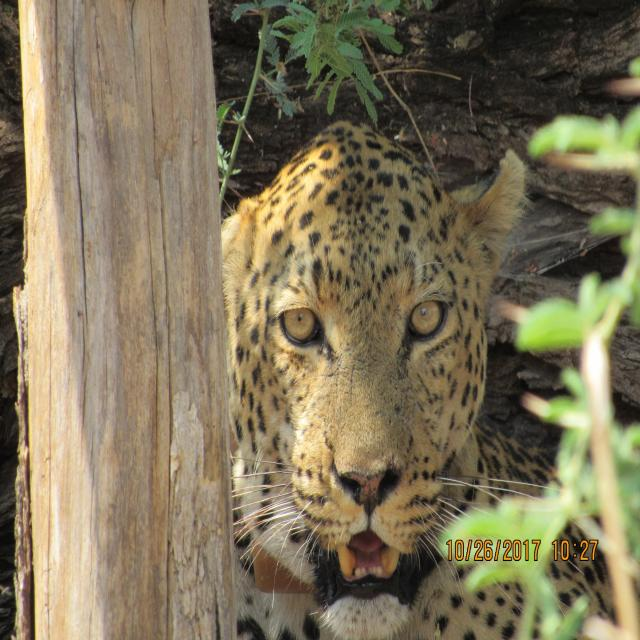Leopard: (164, 35, 640, 639)
